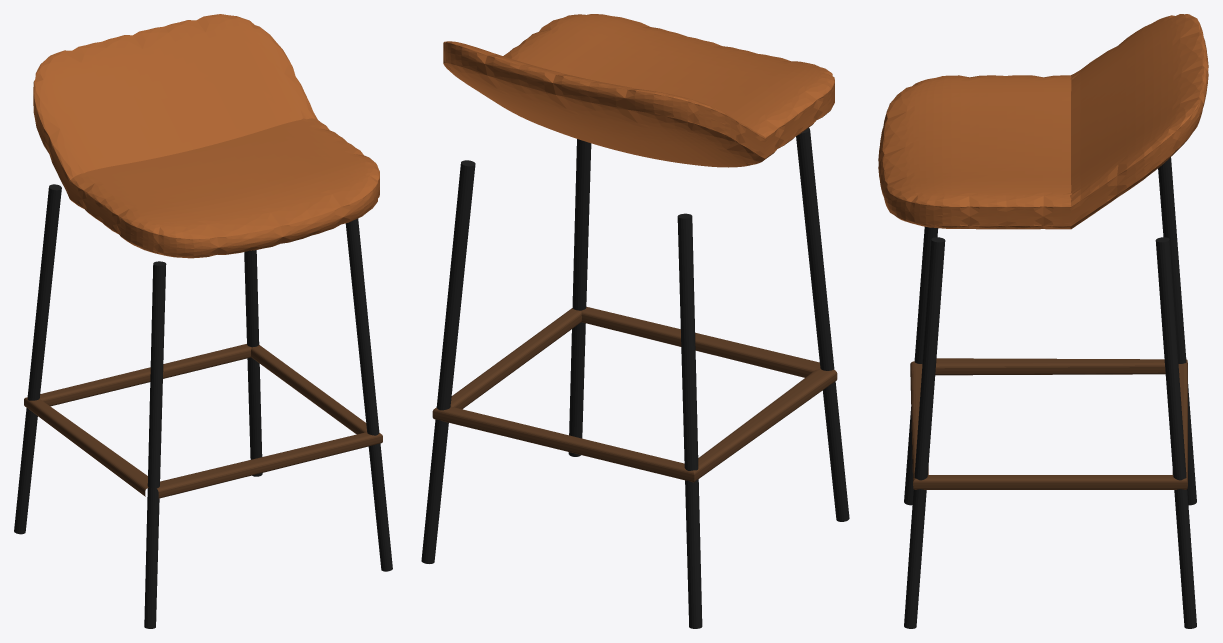
File: dune.glb
The picture shows the model from 3 angles, left to right: view 1: azimuth 30°, elevation 25°; view 2: azimuth 150°, elevation 25°; view 3: azimuth 270°, elevation 25°; orthographic projection. The views are drawn at different scales.
Visible parts, largest first — view 1: seat, footrest, leg0, leg1, leg2, leg3; view 2: seat, footrest, leg2, leg3, leg0, leg1; view 3: seat, footrest, leg1, leg3, leg2, leg0.
Boxes of the visible parts, x1,y1,x2,y2 form: seat: [33, 14, 379, 258]; footrest: [24, 344, 382, 498]; leg0: [144, 261, 166, 628]; leg1: [345, 218, 392, 571]; leg2: [14, 184, 61, 534]; leg3: [244, 250, 262, 476]; seat: [443, 14, 834, 167]; footrest: [432, 306, 837, 482]; leg2: [677, 213, 702, 628]; leg3: [421, 160, 475, 563]; leg0: [796, 128, 849, 521]; leg1: [568, 139, 591, 456]; seat: [878, 14, 1208, 229]; footrest: [910, 358, 1187, 489]; leg1: [904, 237, 945, 628]; leg3: [1155, 237, 1196, 628]; leg2: [1158, 157, 1196, 505]; leg0: [904, 226, 938, 505].
Size of the model in its own units: 0.4414 by 0.7904 by 0.471.
